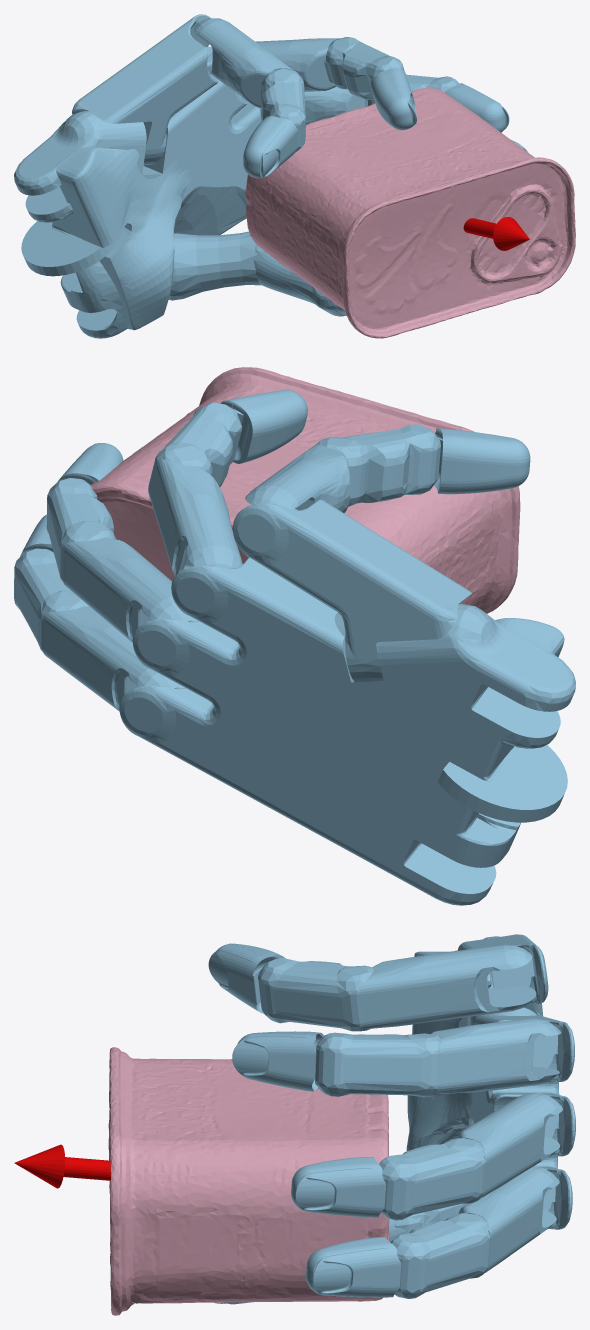
3 renders of one model, top to bottom at view 1: azimuth 30°, elevation 25°; view 2: azimuth 150°, elevation 25°; view 3: azimuth 270°, elevation 25°, orthographic. The views are drawn at different scales.
Parts seen in each view (by area): view 1: world, potted_meat_can.stl; view 2: world, potted_meat_can.stl; view 3: world, potted_meat_can.stl.
Boxes of the visible parts, x1,y1,x2,y2 form: world: [14, 14, 529, 338]; potted_meat_can.stl: [245, 88, 575, 338]; world: [14, 389, 575, 905]; potted_meat_can.stl: [90, 367, 520, 613]; world: [14, 934, 575, 1304]; potted_meat_can.stl: [108, 1047, 389, 1315].
Bounding box in the file's own units: 0.1963 × 0.115 × 0.1672.
